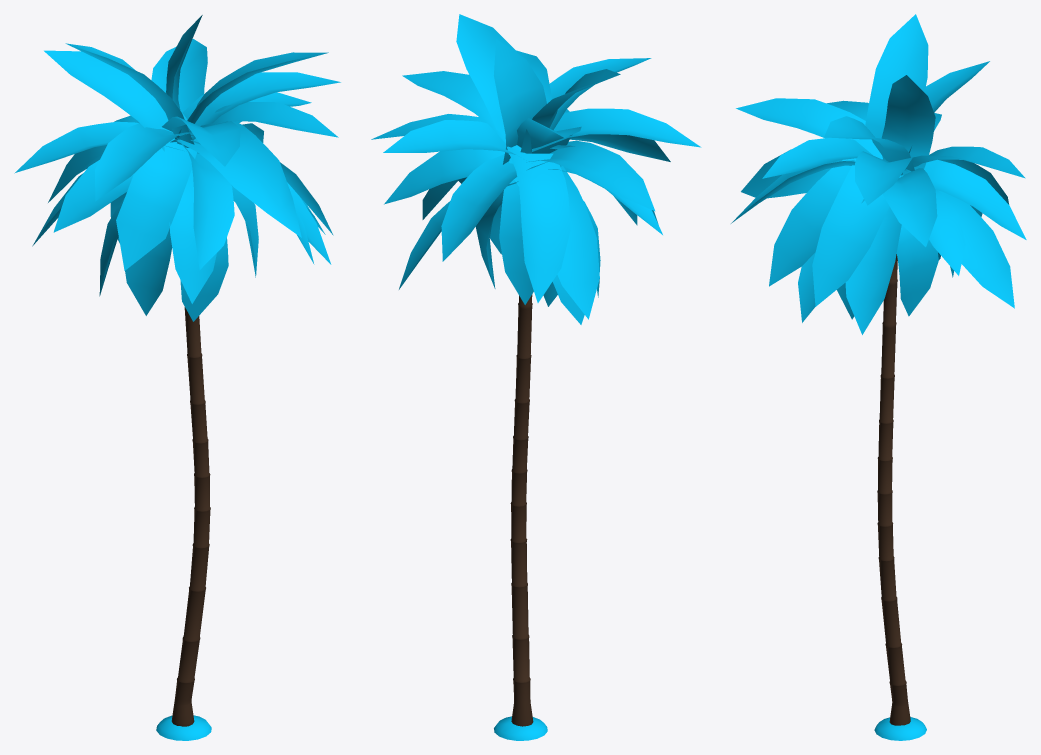
Rendered from blue tree 6.fbx.
3 renders of one model, left to right at view 1: azimuth 30°, elevation 25°; view 2: azimuth 150°, elevation 25°; view 3: azimuth 270°, elevation 25°, orthographic. The views are drawn at different scales.
Parts seen in each view (by area): view 1: coconut tree; view 2: coconut tree; view 3: coconut tree.
Boxes of the visible parts, left/top/right/bottom form: coconut tree: left=14, top=15, right=340, bottom=740; coconut tree: left=371, top=14, right=701, bottom=740; coconut tree: left=731, top=14, right=1026, bottom=740.
Size of the model in its own units: 352 by 805 by 326.
